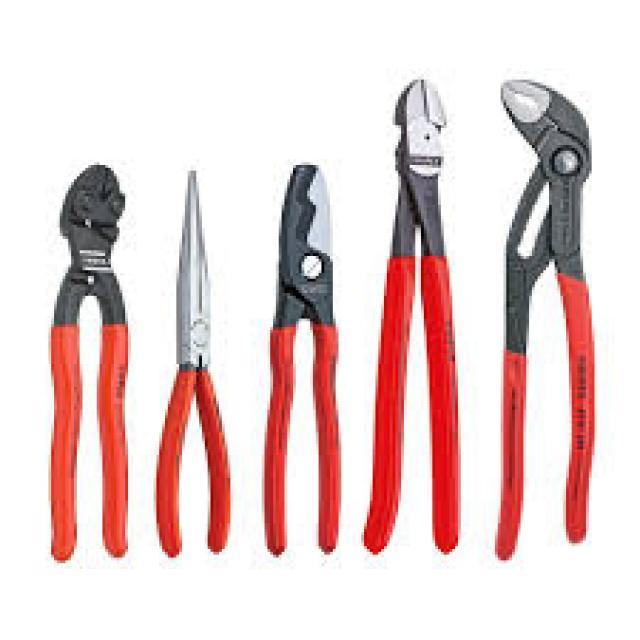pliers: (356, 68, 468, 556), (487, 70, 595, 561), (36, 152, 137, 566), (250, 152, 348, 566), (138, 158, 238, 562)
